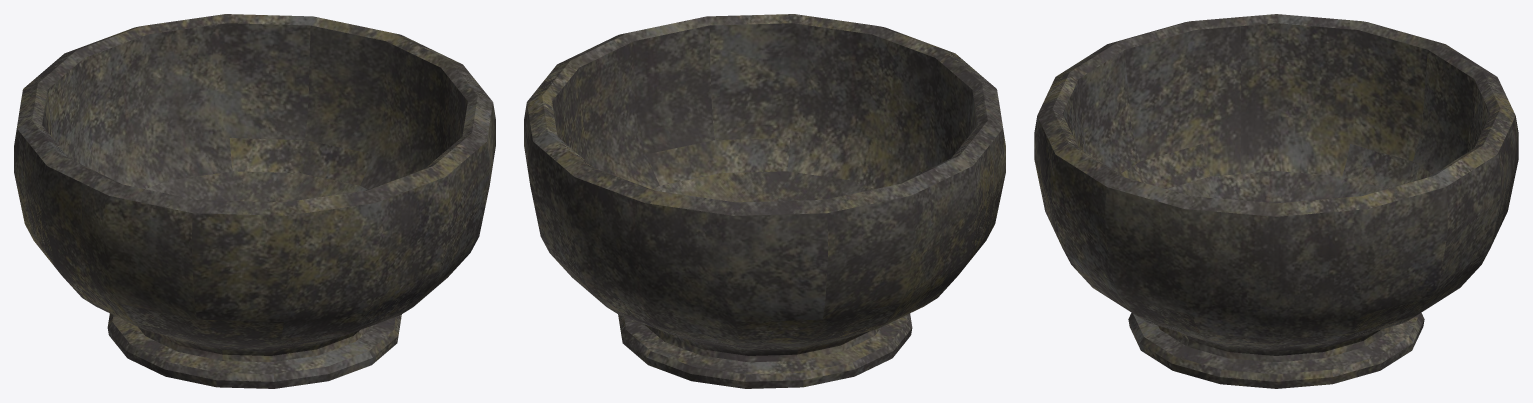
File: Vase 1.FBX
3 renders of one model, left to right at view 1: azimuth 30°, elevation 25°; view 2: azimuth 150°, elevation 25°; view 3: azimuth 270°, elevation 25°, orthographic.
Visible parts, largest first — view 1: vase 1; view 2: vase 1; view 3: vase 1.
Part boxes in pixels (<box>): vase 1: <box>14,14,495,388</box>; vase 1: <box>524,14,1005,388</box>; vase 1: <box>1034,14,1518,388</box>.
Size of the model in its own units: 25.93 by 12.89 by 25.93.
Materials: 1 (1 with a texture image).
